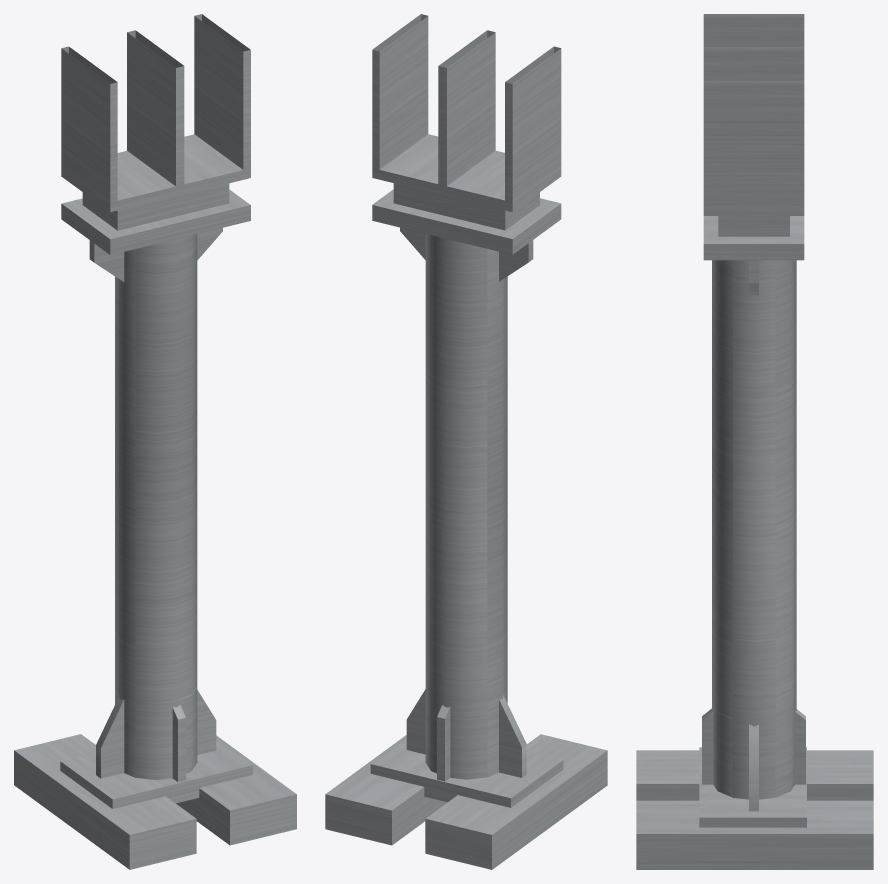
The picture shows the model from 3 angles, left to right: view 1: azimuth 30°, elevation 25°; view 2: azimuth 150°, elevation 25°; view 3: azimuth 270°, elevation 25°; orthographic projection. The views are drawn at different scales.
Parts seen in each view (by area): view 1: obj_027; view 2: obj_027; view 3: obj_027.
Boxes of the visible parts, bbox=[...] form: obj_027: bbox=[14, 14, 296, 869]; obj_027: bbox=[325, 14, 607, 869]; obj_027: bbox=[636, 14, 873, 869].
Bounding box in the file's own units: 50 × 217 × 59.99.
